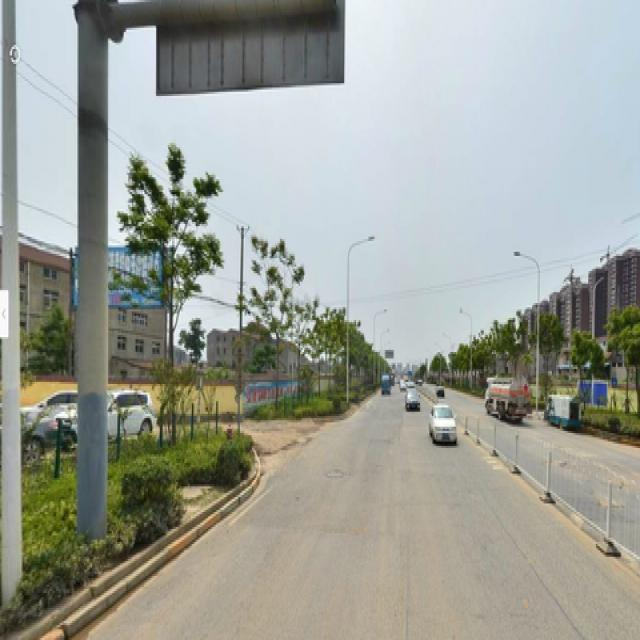koel: (125, 160, 214, 369), (256, 256, 299, 361)
